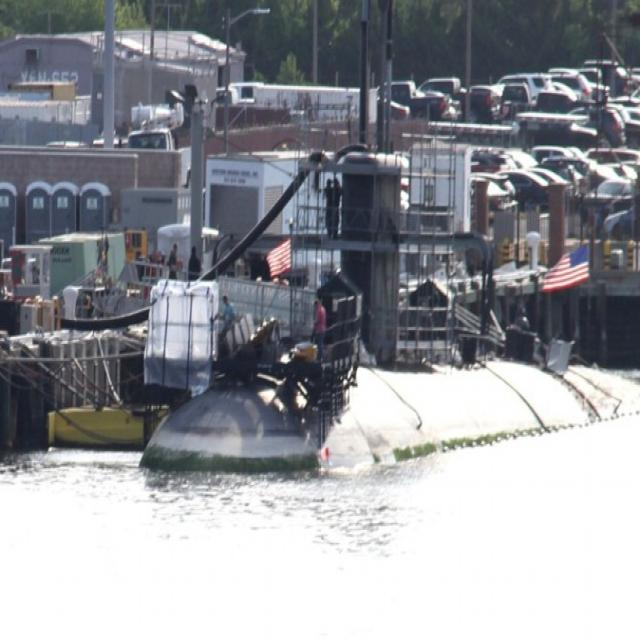submarine: (137, 1, 640, 472)
